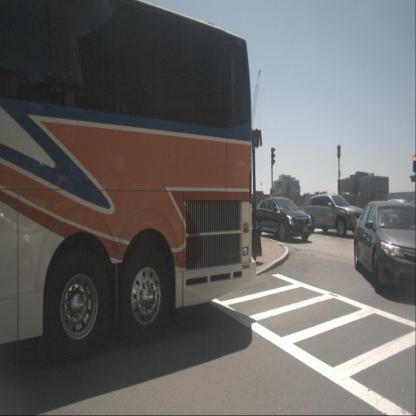vehicle-bus-rigid: (0, 0, 257, 361)
vehicle-car: (354, 201, 416, 295), (253, 197, 313, 243), (305, 194, 367, 238)
